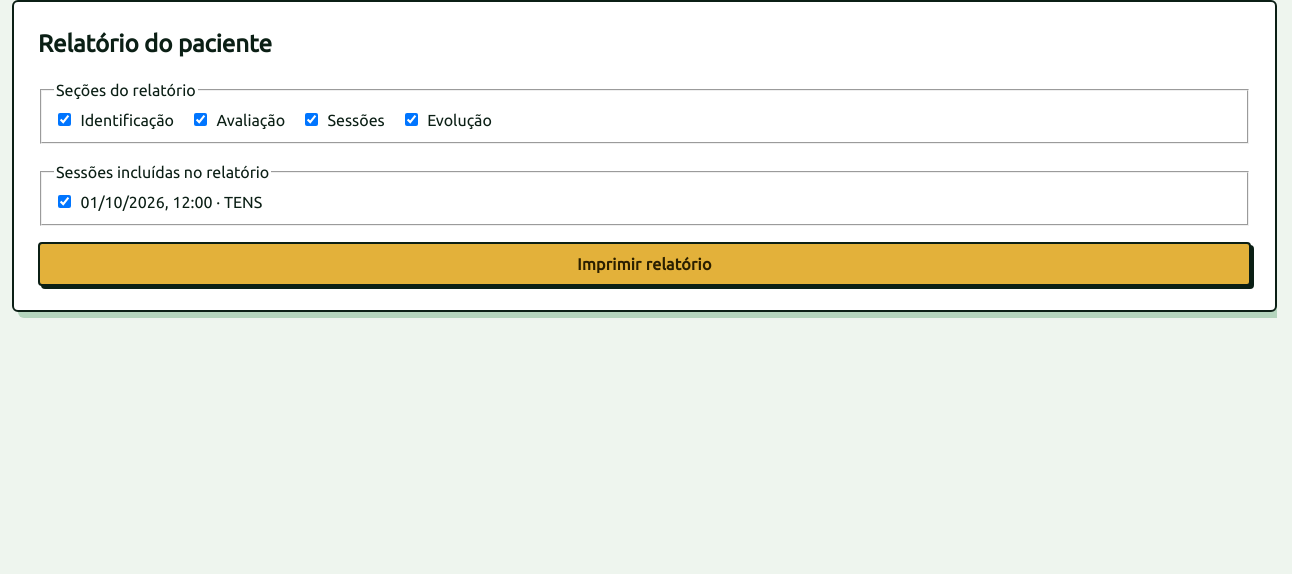
Test: imprime somente as seções escolhidas e preserva zero e ausência no gráfico e na tabela
Later steps or results of the test are not shown.
Click the checkbox labelled "Identificação". click: [64, 120]
box: [58,113,71,126]
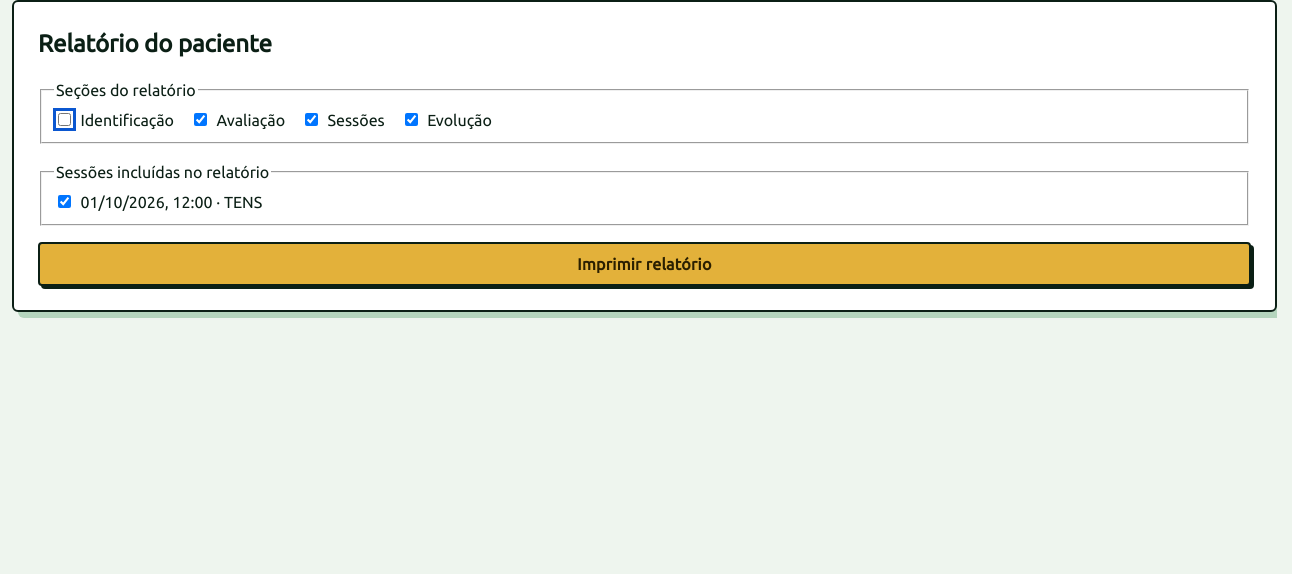
Click the checkbox labelled "Avaliação". click: [200, 120]
box: [194,113,207,126]
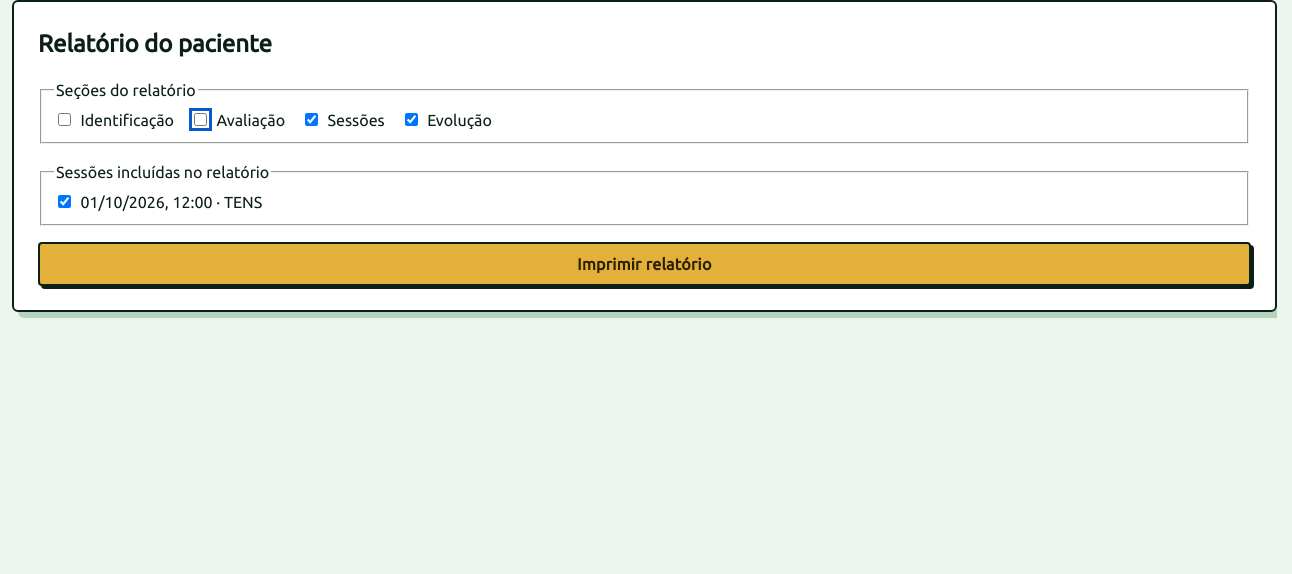
Click the checkbox labelled "Sessões". click: [312, 120]
box: [305,113,318,126]
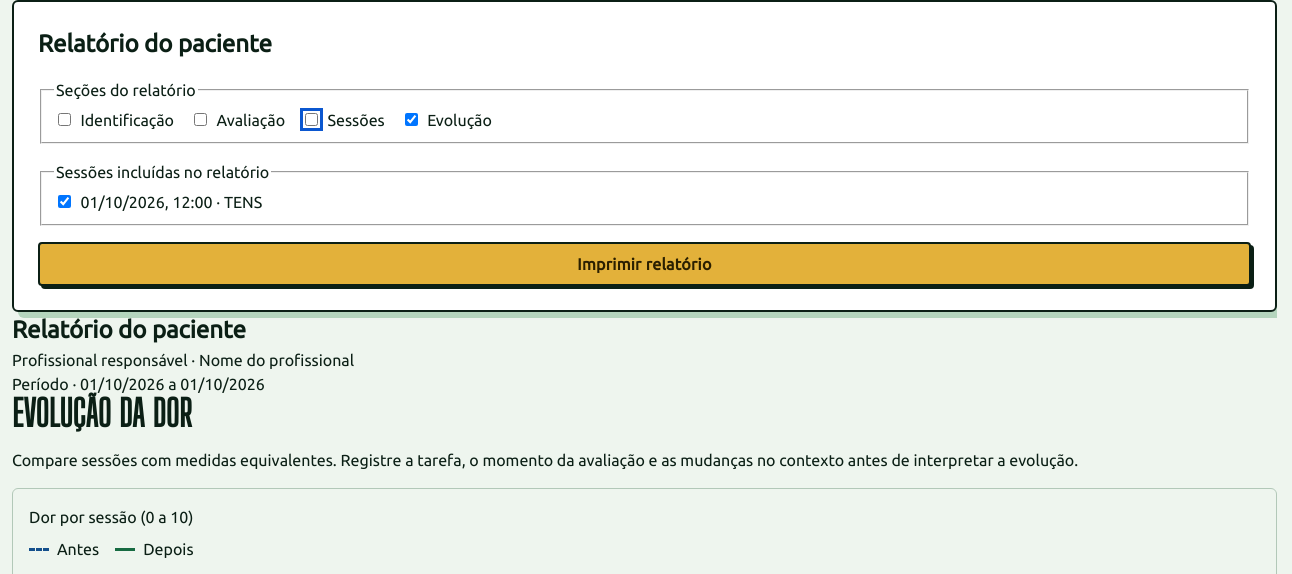
Check: the heading "Evolução da dor" is shown, box [12,392,192,435]
